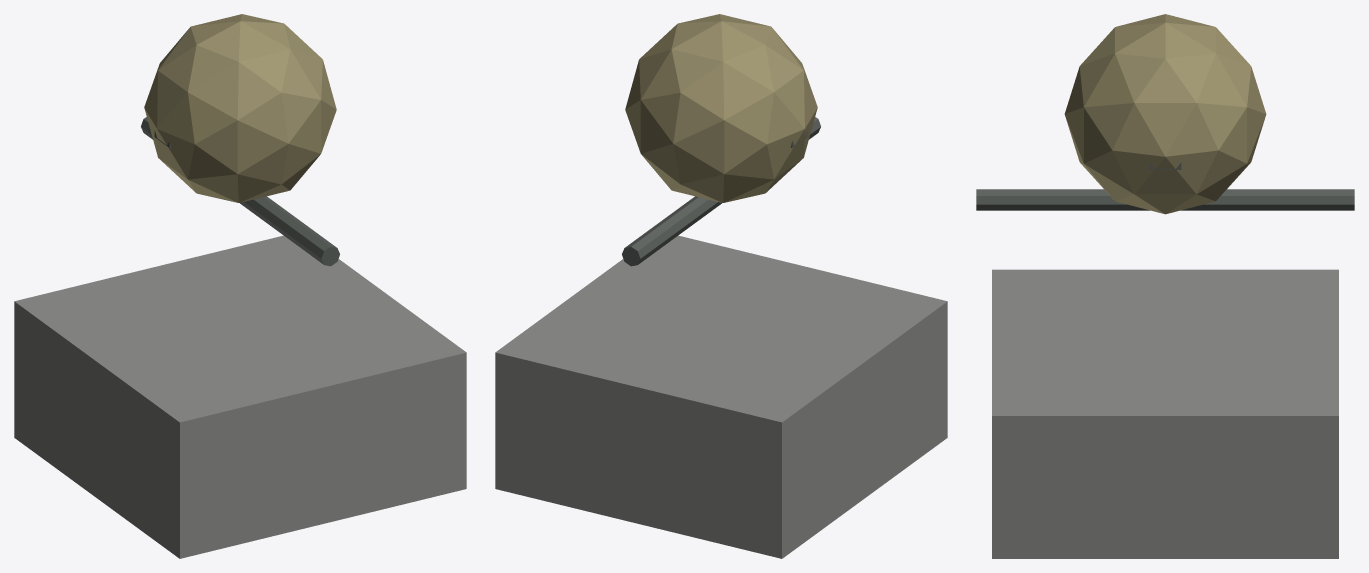
File: radar.glb
The picture shows the model from 3 angles, left to right: view 1: azimuth 30°, elevation 25°; view 2: azimuth 150°, elevation 25°; view 3: azimuth 270°, elevation 25°; orthographic projection. The views are drawn at different scales.
Visible parts, largest first — view 1: p0, p2, p1; view 2: p0, p2, p1; view 3: p0, p2, p1.
Part boxes in pixels (bbox=[...]): p0: bbox=[14, 235, 466, 558]; p2: bbox=[144, 14, 336, 202]; p1: bbox=[141, 117, 339, 266]; p0: bbox=[495, 235, 947, 558]; p2: bbox=[625, 14, 817, 202]; p1: bbox=[622, 117, 820, 266]; p0: bbox=[992, 269, 1338, 558]; p2: bbox=[1064, 14, 1266, 214]; p1: bbox=[976, 189, 1354, 210].
Bounding box in the file's own units: 5.5 × 8.1 × 6.
